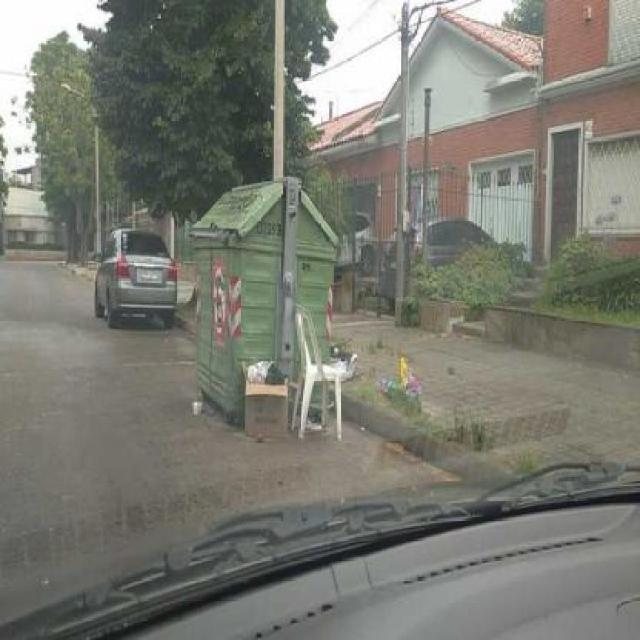garbage: (289, 303, 356, 456), (239, 356, 292, 447), (374, 348, 428, 392), (191, 398, 204, 416)
